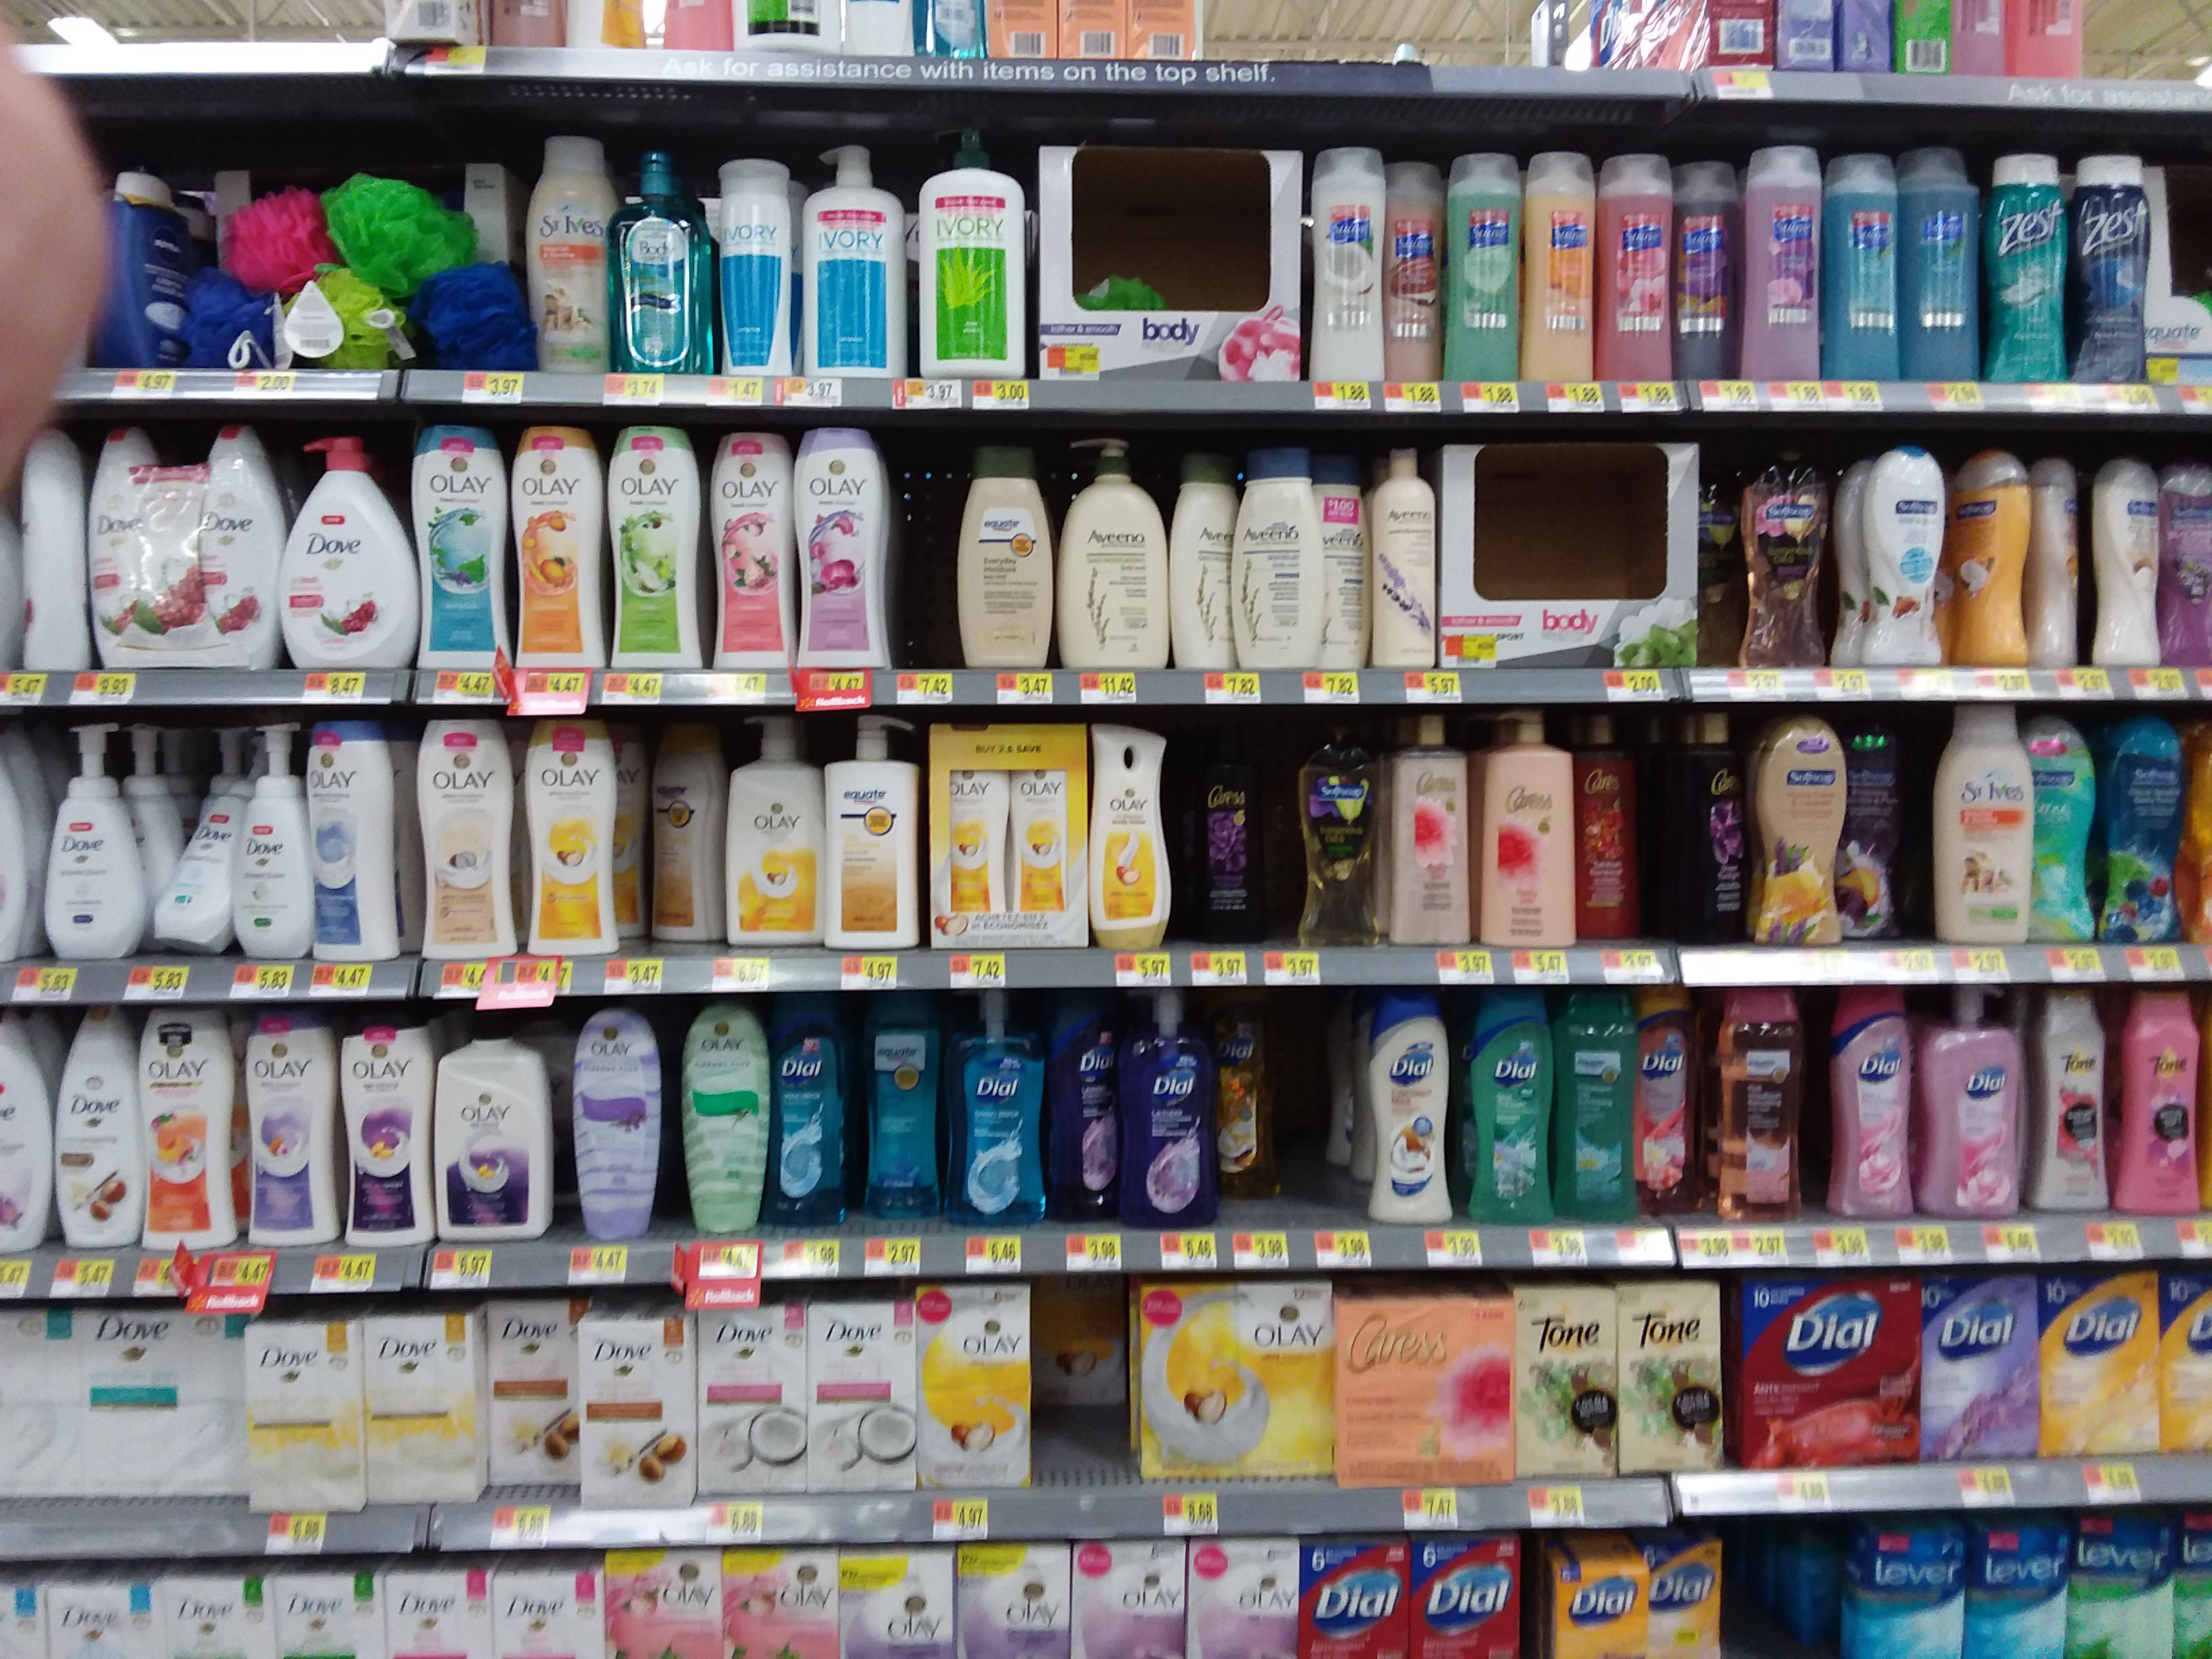Misplacement: (1031, 1277, 1137, 1485)
